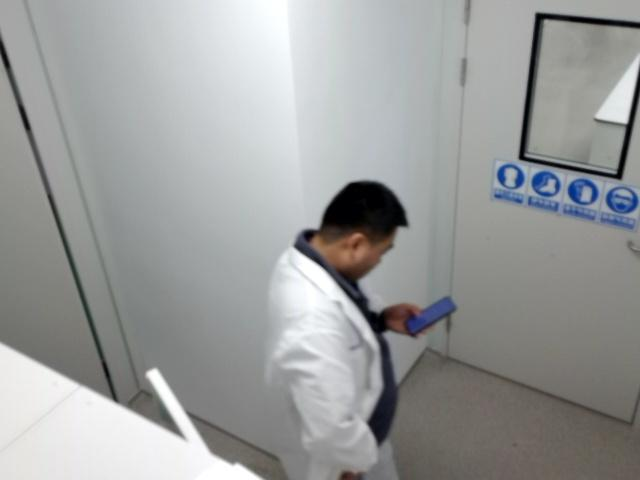Lab_coat: (266, 181, 421, 479)
